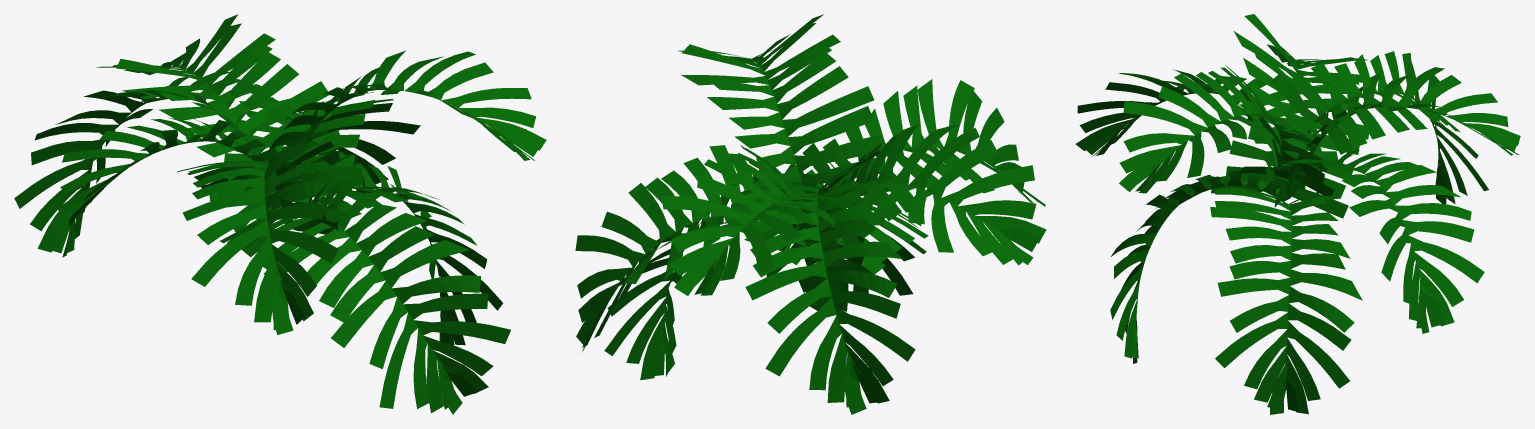
Rendered from Vegetation_Modular_New_Tropical_Plant_Fern_01.FBX.
The picture shows the model from 3 angles, left to right: view 1: azimuth 30°, elevation 25°; view 2: azimuth 150°, elevation 25°; view 3: azimuth 270°, elevation 25°; orthographic projection. The views are drawn at different scales.
Visible parts, largest first — view 1: Vegetation_Modular_New_Tropical_Plant_Fern_01; view 2: Vegetation_Modular_New_Tropical_Plant_Fern_01; view 3: Vegetation_Modular_New_Tropical_Plant_Fern_01.
Boxes of the visible parts, <box> form: Vegetation_Modular_New_Tropical_Plant_Fern_01: <box>14,14,546,414</box>; Vegetation_Modular_New_Tropical_Plant_Fern_01: <box>575,14,1046,414</box>; Vegetation_Modular_New_Tropical_Plant_Fern_01: <box>1075,14,1520,414</box>.
Bounding box in the file's own units: 3584 × 2728 × 3788.
